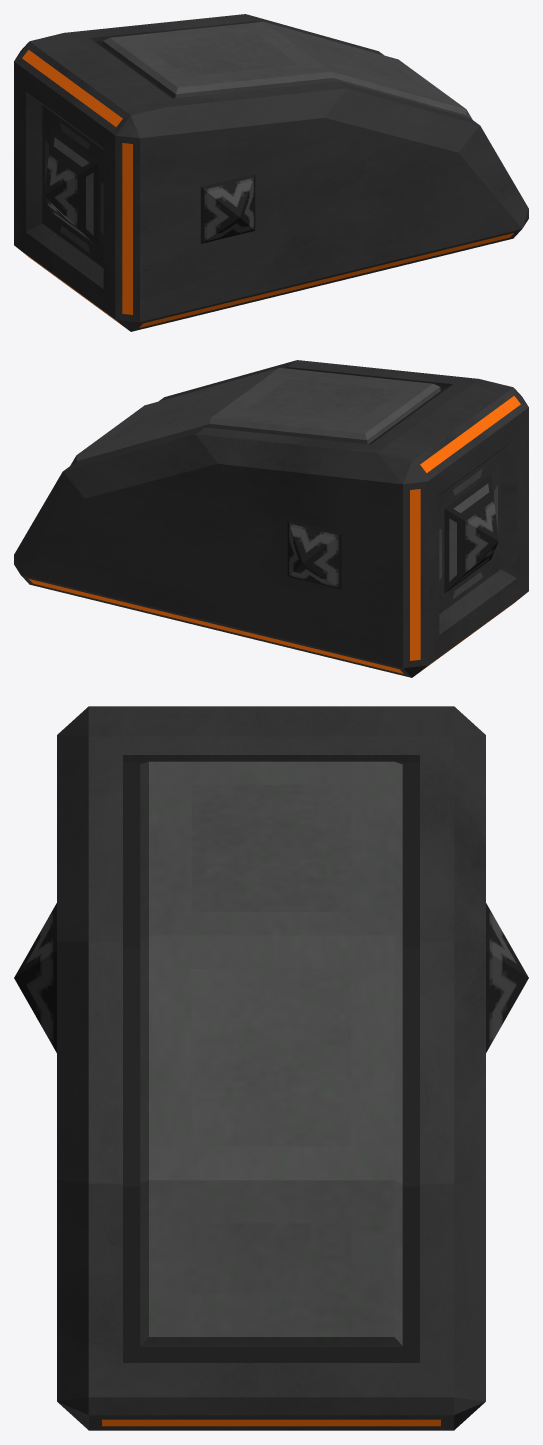
The model's file is IEC Medium Slope.obj.
The picture shows the model from 3 angles, top to bottom: view 1: azimuth 30°, elevation 25°; view 2: azimuth 150°, elevation 25°; view 3: azimuth 270°, elevation 25°; orthographic projection. The views are drawn at different scales.
Visible parts, largest first — view 1: IEC_Medium_Slope_Cube.001; view 2: IEC_Medium_Slope_Cube.001; view 3: IEC_Medium_Slope_Cube.001.
Part boxes in pixels (x1=…): IEC_Medium_Slope_Cube.001: x1=14, y1=14, x2=528, y2=331; IEC_Medium_Slope_Cube.001: x1=14, y1=360, x2=528, y2=677; IEC_Medium_Slope_Cube.001: x1=14, y1=706, x2=528, y2=1430.
Size of the model in its own units: 2.1 by 1.1 by 1.2.
